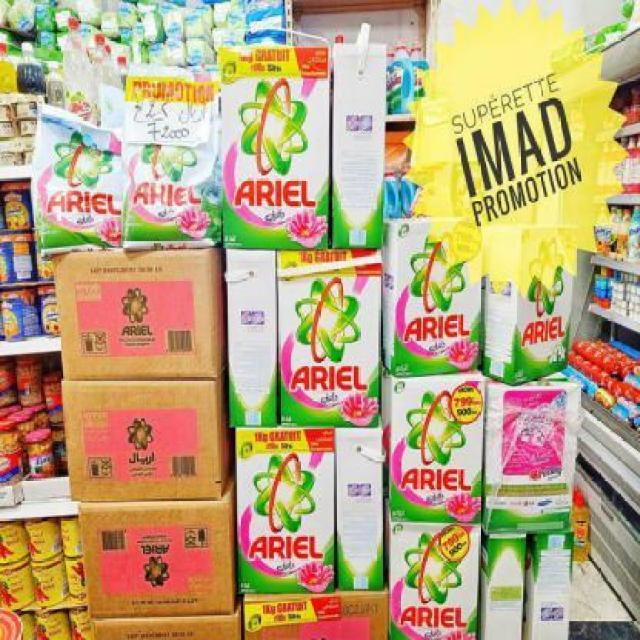Detergent: (216, 43, 328, 249), (233, 417, 339, 593), (275, 251, 379, 427), (125, 62, 219, 250), (388, 208, 486, 366), (388, 215, 480, 375), (389, 376, 483, 524), (488, 218, 572, 380), (25, 122, 123, 246), (384, 520, 476, 638)
